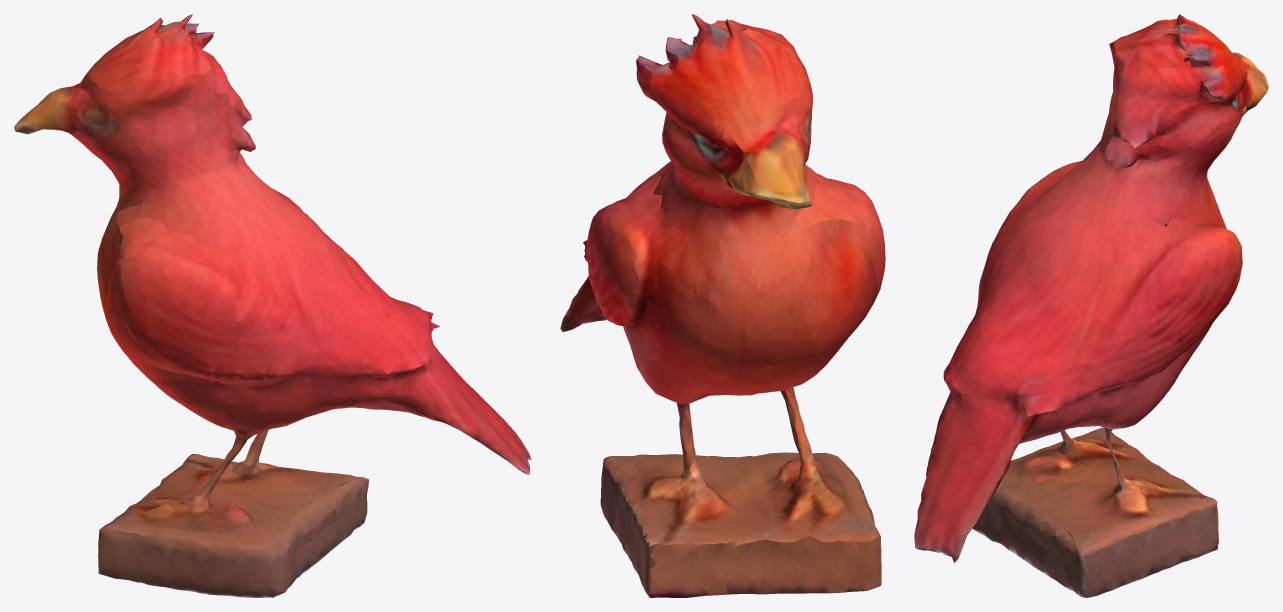
The picture shows the model from 3 angles, left to right: view 1: azimuth 30°, elevation 25°; view 2: azimuth 150°, elevation 25°; view 3: azimuth 270°, elevation 25°; orthographic projection. The views are drawn at different scales.
Parts seen in each view (by area): view 1: world; view 2: world; view 3: world.
Boxes of the visible parts, <box> form: world: <box>14,14,531,597</box>; world: <box>560,14,885,597</box>; world: <box>914,14,1268,597</box>.
Size of the model in its own units: 0.6441 by 0.857 by 0.5358.
Materials: 1 (1 with a texture image).
